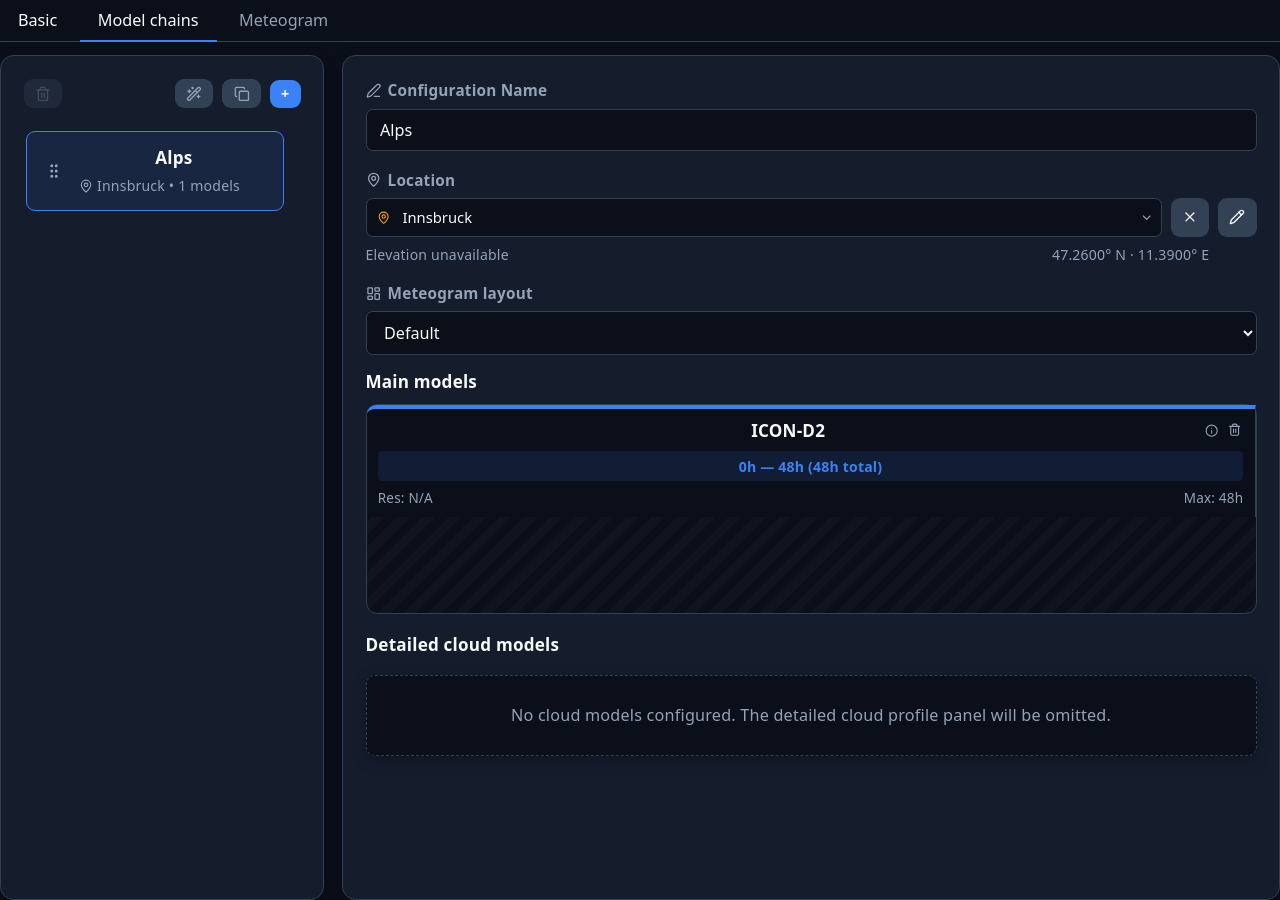
Test: ConfigView start from auto configuration › cancels with Escape and reports a failed creation
This screenshot has width=1280, height=900.
Click the button named "Start from auto configuration" at x=194, y=94, box [175,79,213,108]
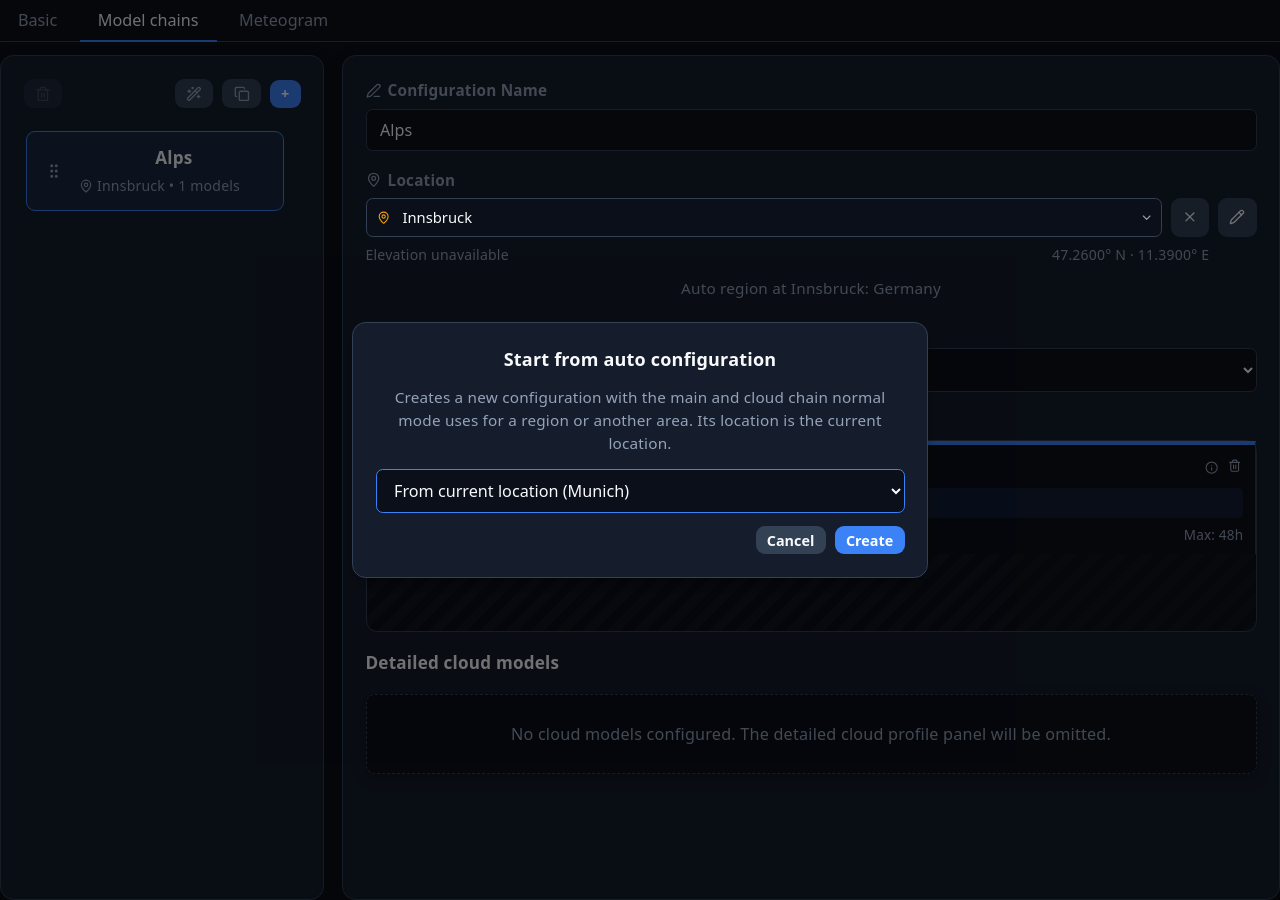
Click the button "Create" at x=870, y=540, box [835,526,904,554]
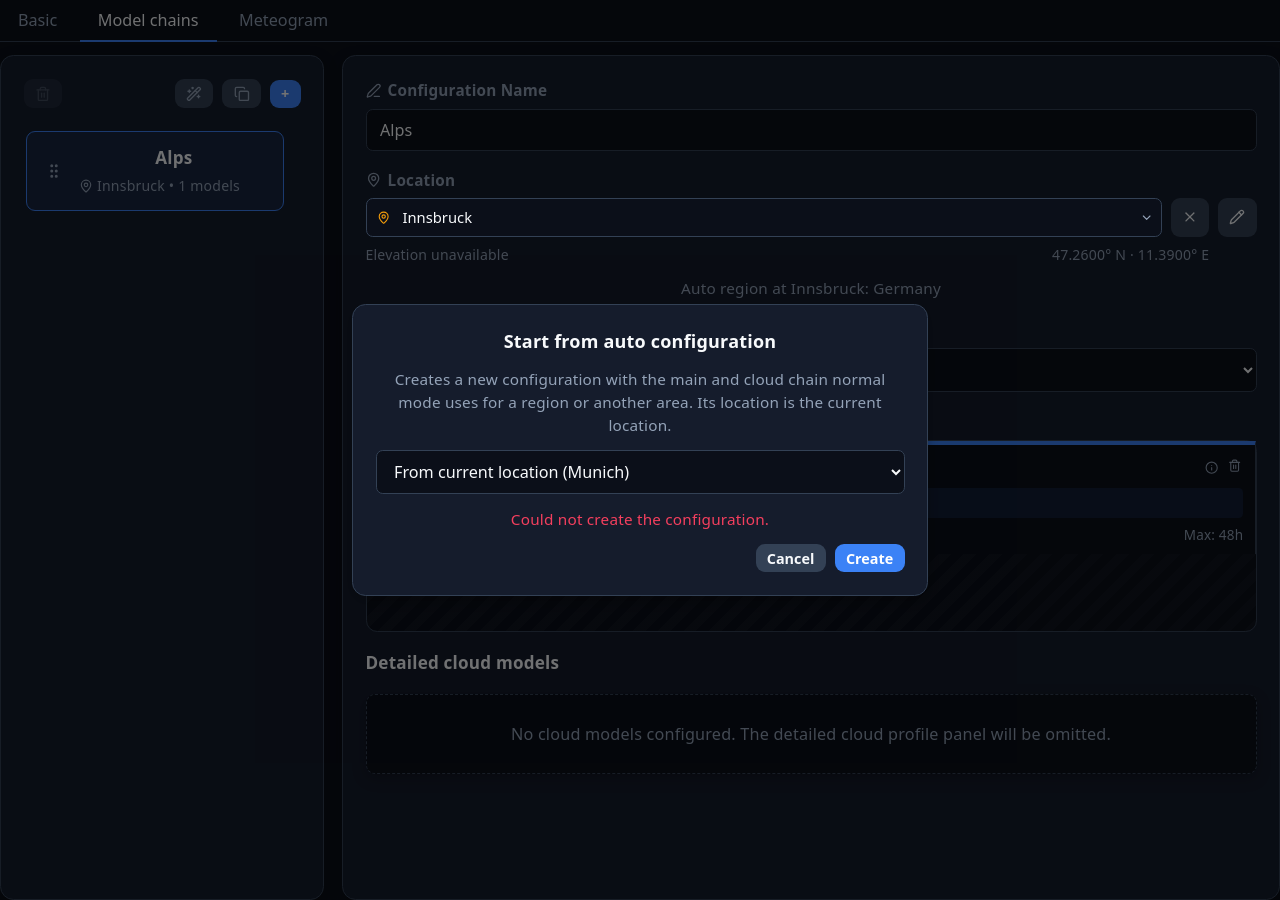
Result: the message reads "Could not create the configuration." at [511,509,769,529]
Press Escape in the dialog with test id "auto-config-dialog", box [352,304,928,596]
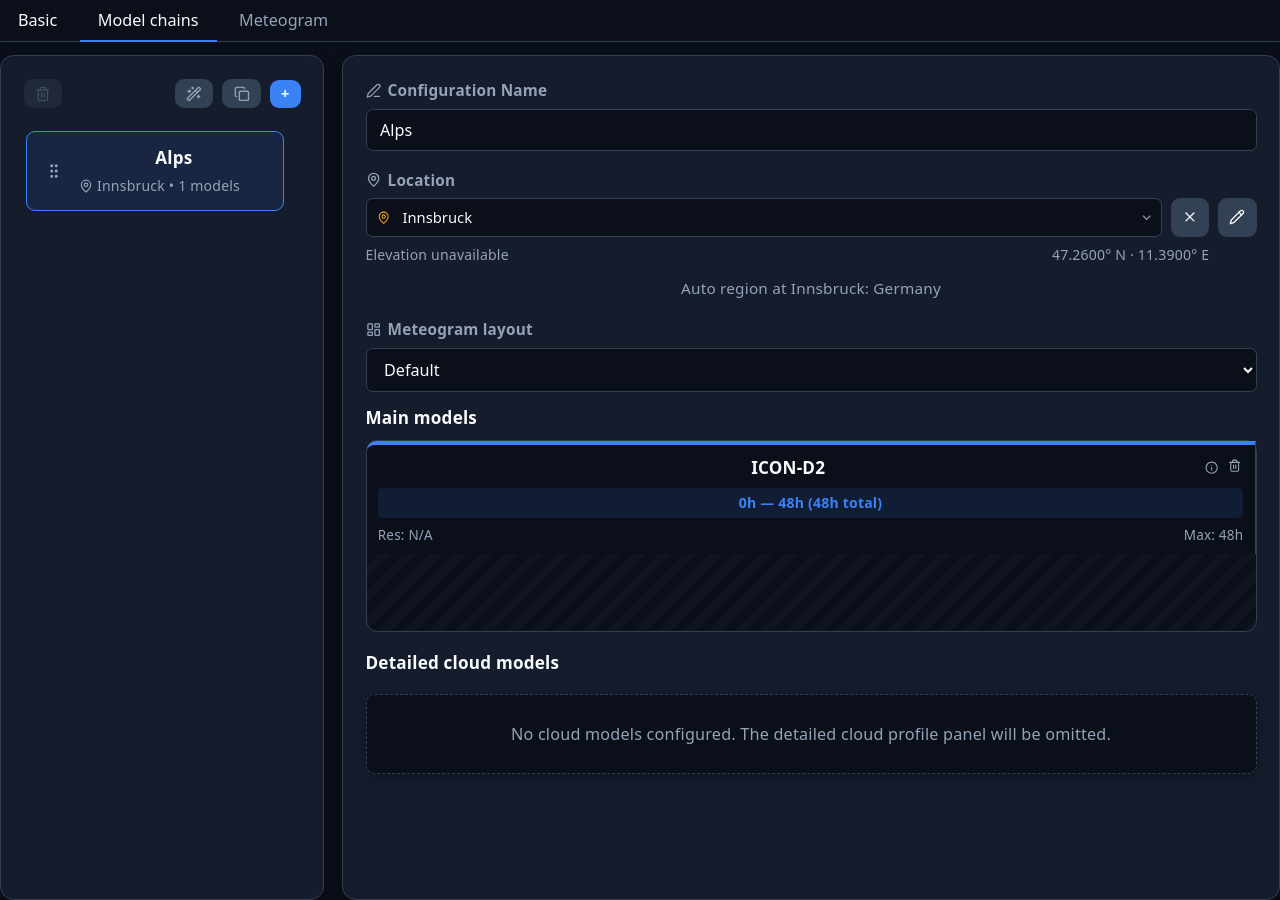
Result: the dialog with test id "auto-config-dialog" is gone
